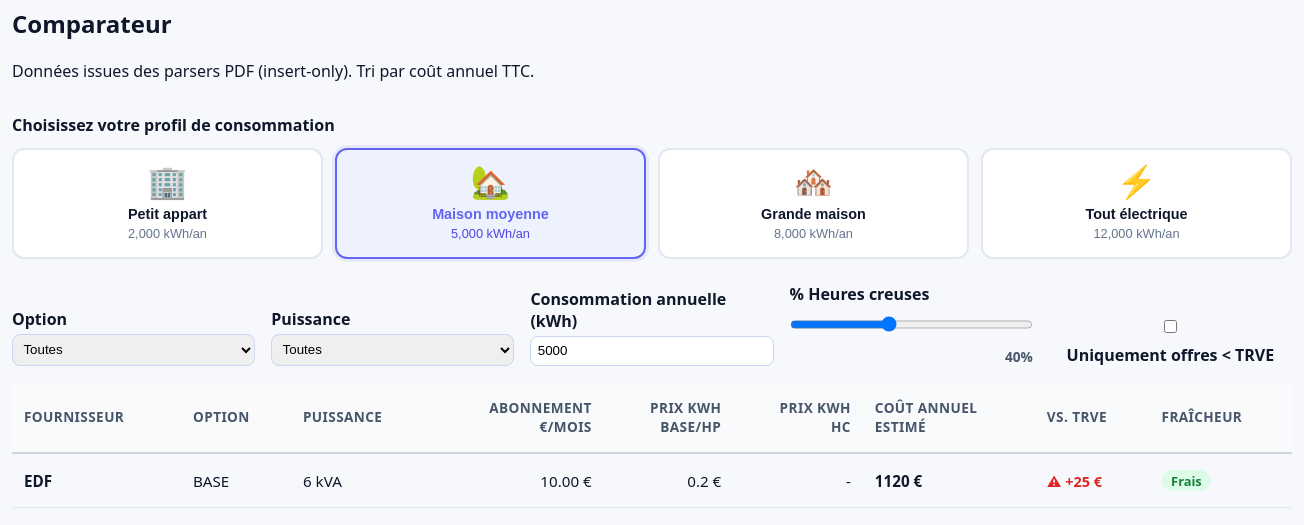
Scenario: TariffList › updates consumption and recalculates cost
Expected: the text "EDF" is shown, [24,471,52,491]
Change consumption to 10000 kWh
Replace the text in the number field labelled "Consommation annuelle (kWh)" with "10000" at (652, 351), box [530,336,774,366]
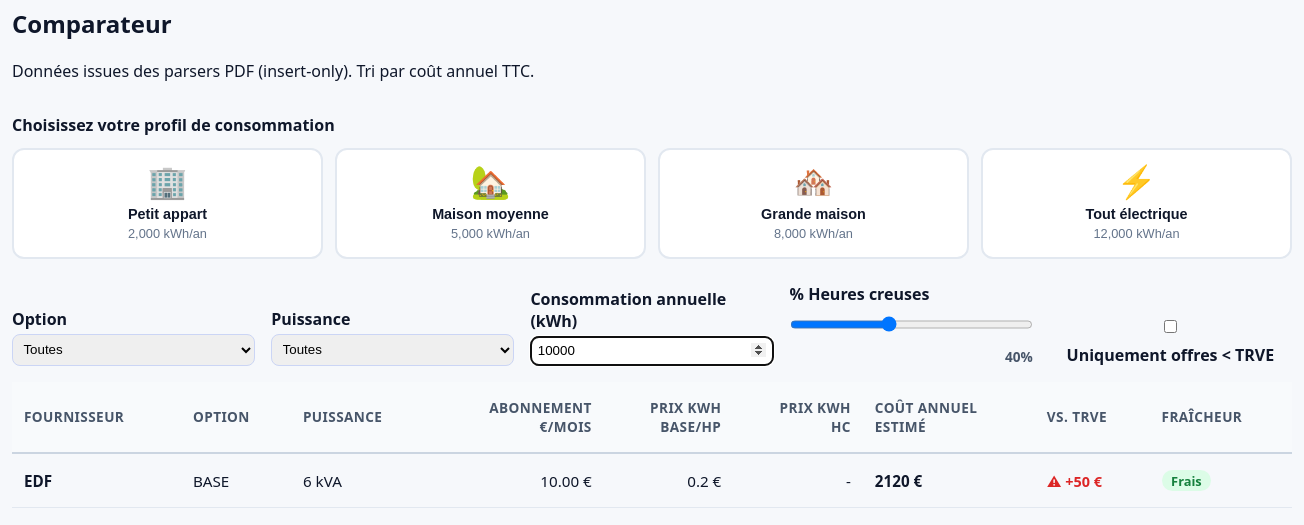
Expected: the text "2120 €" is shown, [875,471,922,491]
